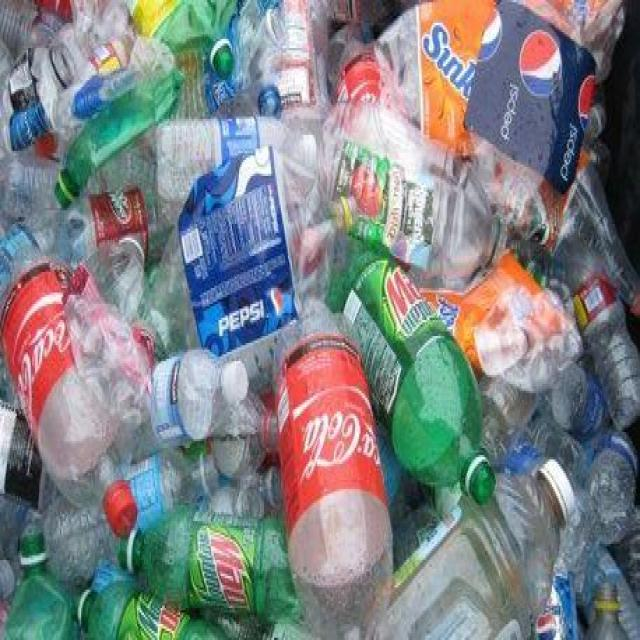heap: (4, 3, 640, 640)
plastic_bottle: (330, 240, 496, 503), (276, 299, 396, 640), (8, 239, 138, 540), (325, 104, 506, 289), (398, 468, 585, 640), (109, 514, 288, 619), (55, 77, 182, 192), (153, 121, 319, 206), (569, 262, 640, 431), (148, 352, 252, 450), (124, 2, 251, 78)
